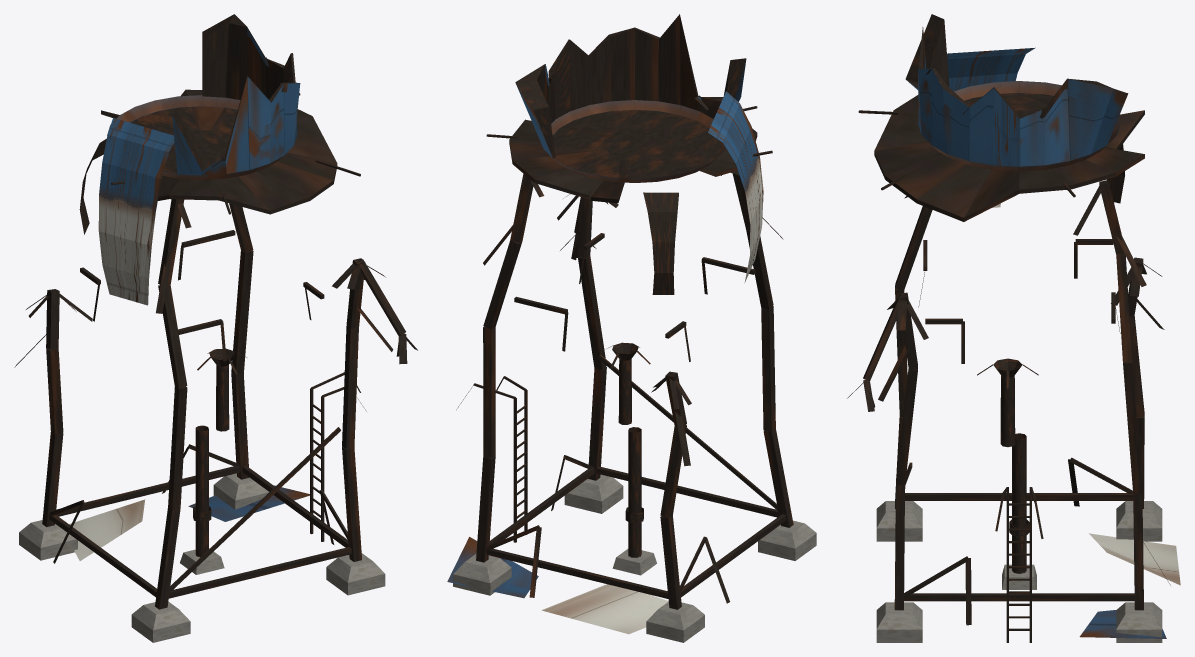
File: water_tower_destroyed.glb
3 views of the same model, side by side, from view 1: azimuth 30°, elevation 25°; view 2: azimuth 150°, elevation 25°; view 3: azimuth 270°, elevation 25° (orthographic). The views are drawn at different scales.
Visible parts, largest first — view 1: WaterTower_Destroyed; view 2: WaterTower_Destroyed; view 3: WaterTower_Destroyed.
Boxes of the visible parts, x1,y1,x2,y2 form: WaterTower_Destroyed: (14,14,417,642); WaterTower_Destroyed: (447,14,816,642); WaterTower_Destroyed: (847,14,1180,642).
Size of the model in its own units: 7.79 by 13.34 by 7.28.
Materials: 1 (1 with a texture image).
